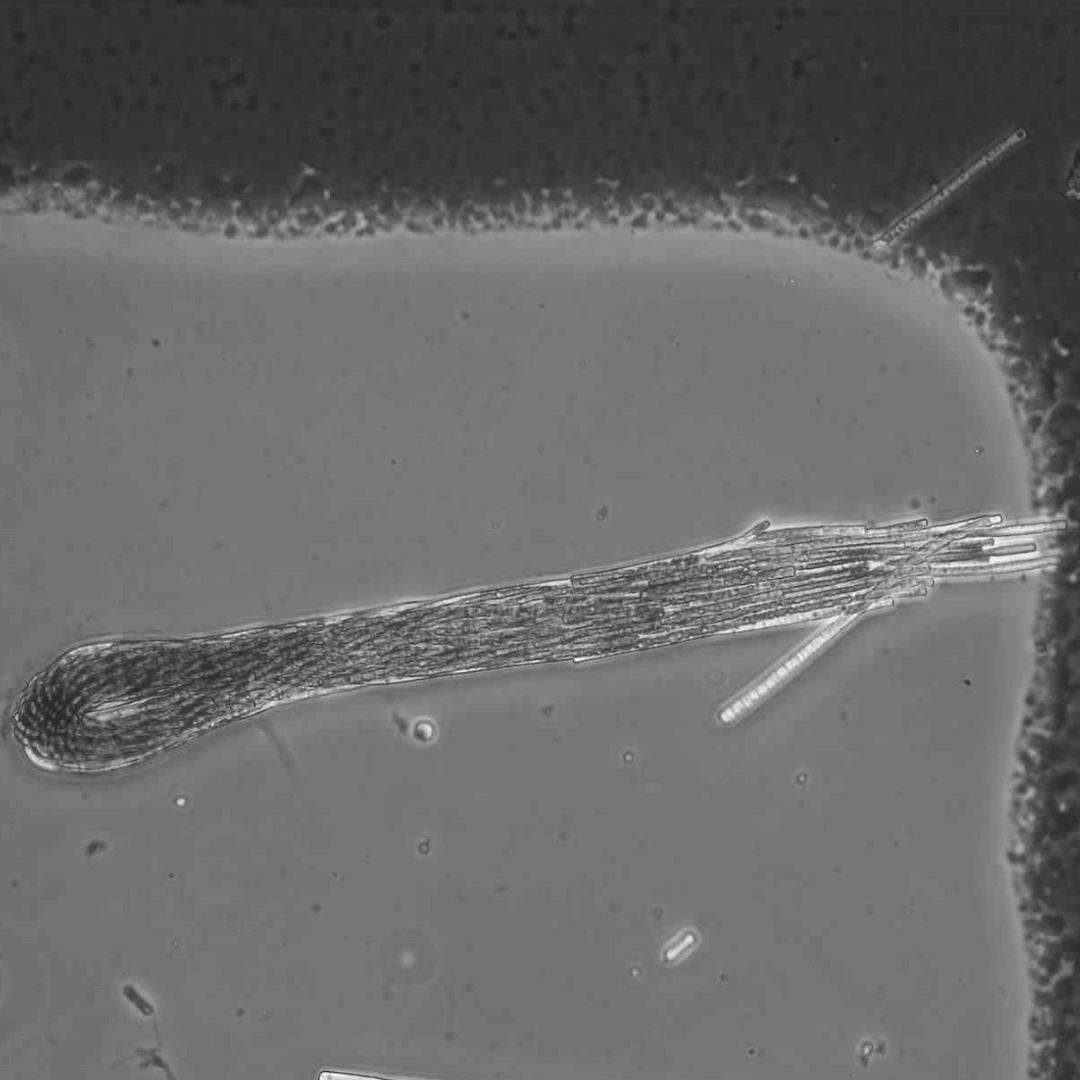trichodesmium_erythraeum: (11, 512, 1072, 782)
